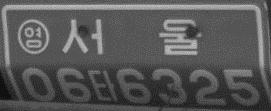0: (21, 66, 55, 102)
2: (188, 68, 224, 105)
3: (152, 67, 187, 105)
5: (225, 68, 259, 106)
6: (117, 68, 151, 103), (56, 67, 89, 102)
서울_D: (61, 17, 202, 56)
영: (16, 18, 50, 55)
타: (90, 68, 117, 102)
